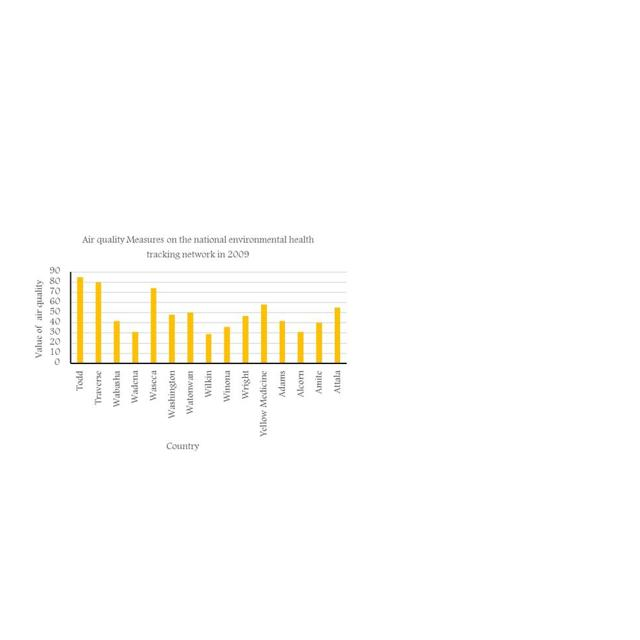Graph: (23, 229, 350, 457)
